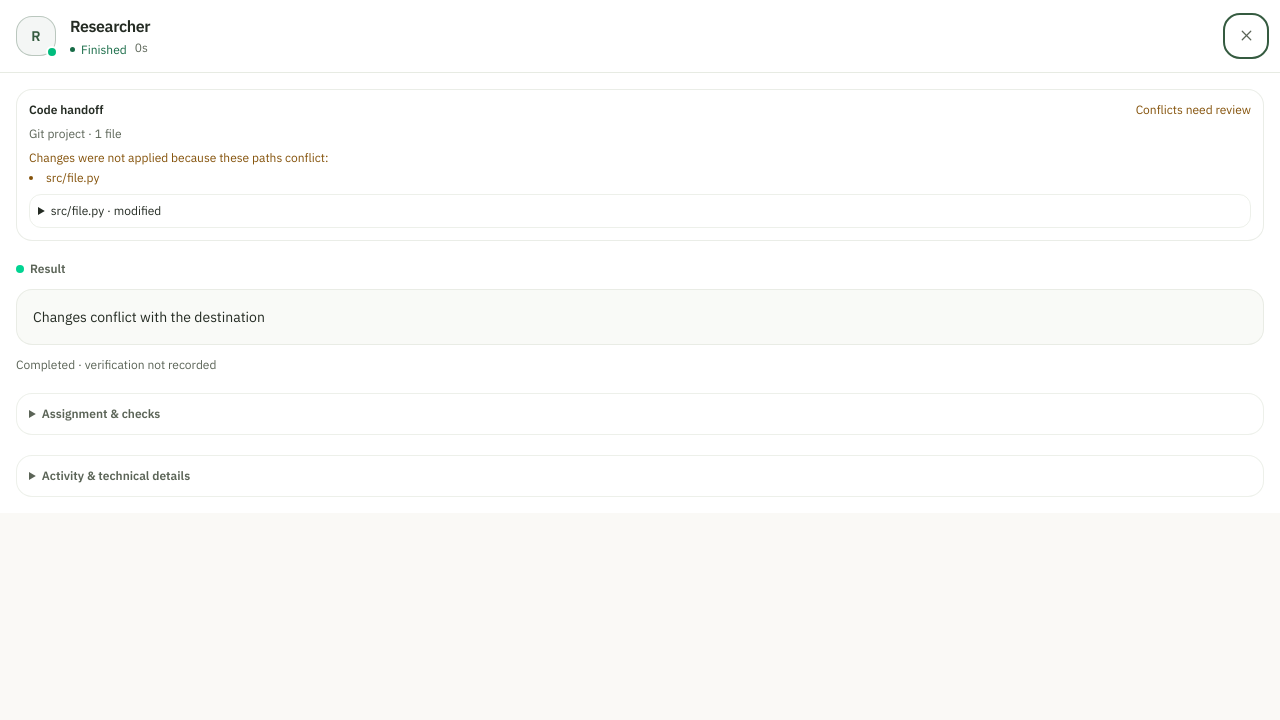
it: worker details › shows a reviewable handoff and its conflict status
This screenshot has width=1280, height=720.
Check: the element "Code handoff" shows "Conflicts need review", box left=1136, top=102, right=1251, bottom=116
Check: the message shows "src/file.py", box left=46, top=170, right=100, bottom=184
Click the heading "src/file.py · modified" at [106, 210], box left=51, top=202, right=161, bottom=218
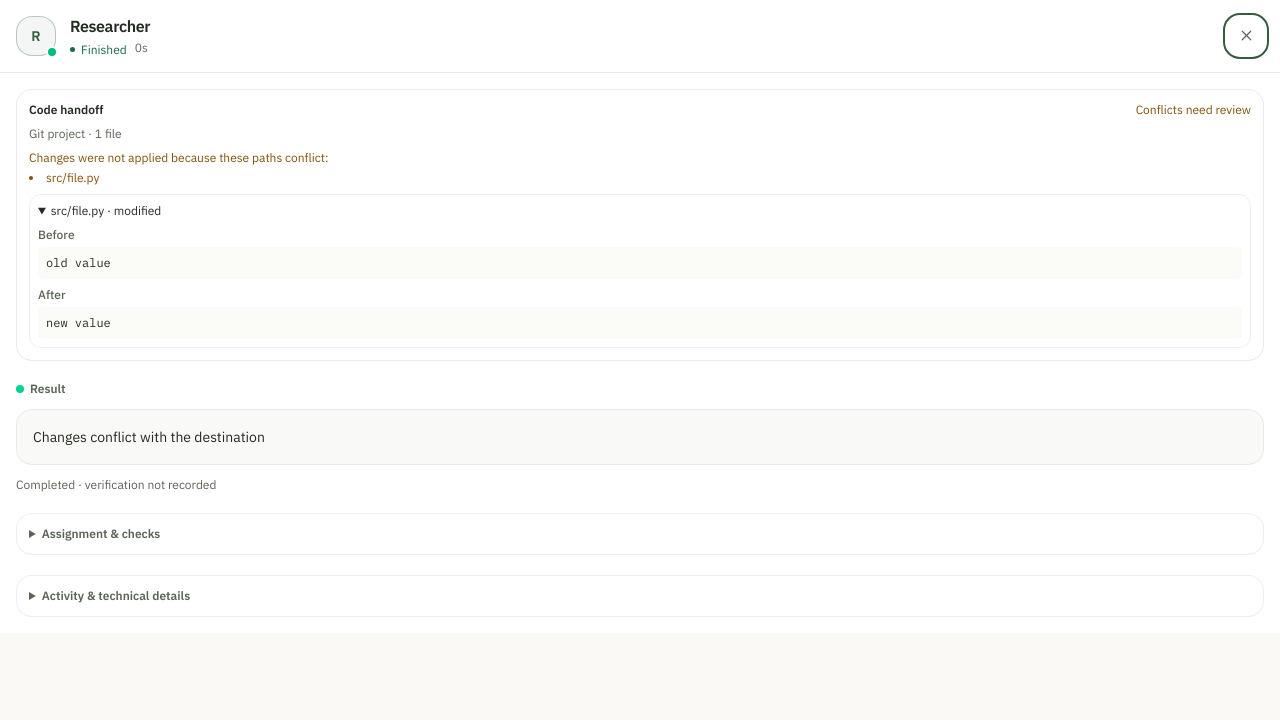
Check: the text "old value" is shown, box left=38, top=246, right=1242, bottom=278
Check: the text "new value" is shown, box left=38, top=306, right=1242, bottom=338
